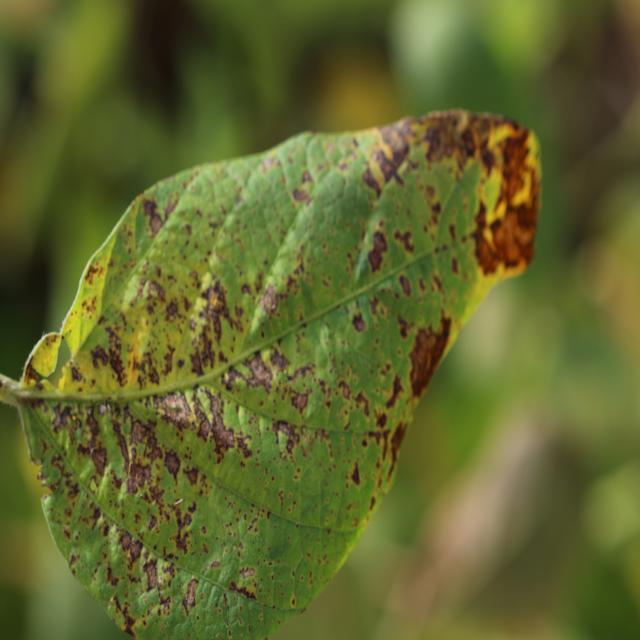Bacterial_Blight: (405, 317, 451, 398), (418, 114, 486, 168), (294, 459, 331, 531), (204, 397, 241, 457), (154, 391, 199, 434), (82, 405, 107, 477), (37, 450, 67, 493), (202, 277, 231, 318), (474, 227, 501, 271), (124, 455, 154, 494), (170, 507, 195, 553), (274, 420, 305, 457), (116, 527, 142, 569), (387, 421, 408, 471), (256, 281, 284, 318), (365, 229, 388, 273), (141, 196, 165, 235), (297, 281, 320, 320), (129, 418, 155, 450), (49, 402, 74, 435), (384, 372, 405, 410), (288, 385, 312, 416), (361, 164, 382, 195), (393, 227, 416, 255), (142, 278, 167, 302), (90, 342, 110, 371), (268, 348, 291, 373), (163, 449, 181, 480), (119, 605, 137, 636), (352, 389, 371, 418), (83, 261, 104, 287), (231, 580, 258, 600), (161, 344, 177, 377), (183, 577, 198, 611), (189, 345, 205, 376), (396, 313, 414, 340), (104, 560, 120, 587), (23, 361, 41, 385), (291, 184, 311, 204), (183, 465, 200, 488), (351, 310, 367, 333), (246, 513, 262, 536), (398, 273, 412, 298), (298, 129, 324, 142), (433, 241, 454, 257), (338, 380, 353, 401), (69, 363, 84, 383), (349, 461, 361, 486), (390, 167, 405, 186), (238, 565, 256, 579), (375, 411, 388, 430), (430, 199, 442, 218), (240, 282, 252, 297), (451, 256, 460, 275), (207, 559, 221, 569), (69, 552, 78, 566), (277, 490, 284, 507), (308, 571, 313, 586), (362, 437, 368, 447), (237, 618, 244, 626), (291, 596, 296, 607), (227, 629, 232, 638), (247, 624, 252, 632), (292, 500, 297, 507)
Soybean: (0, 111, 540, 640)
